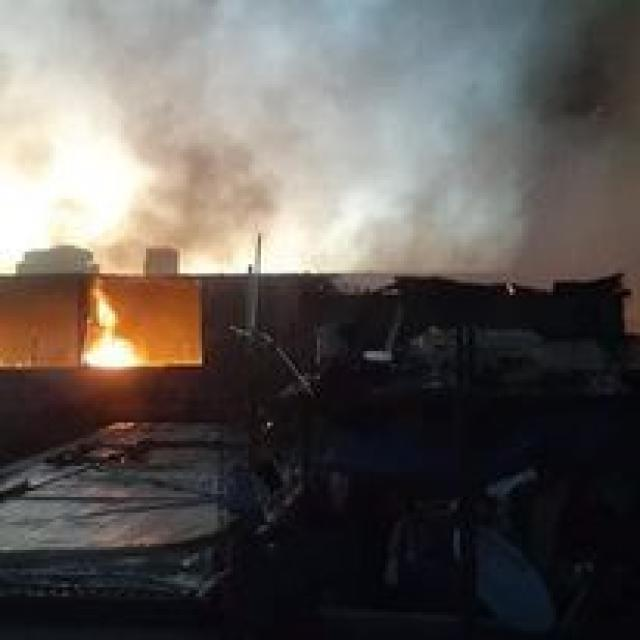Fire: (76, 262, 213, 378)
Smoke: (460, 0, 640, 287)
